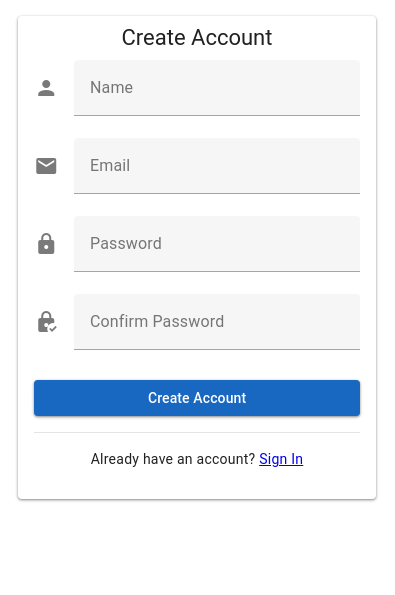
it: RegisterView › shows error message when registration fails
In the field labelled "Name": (217, 88) [74,60,360,116], type "John"
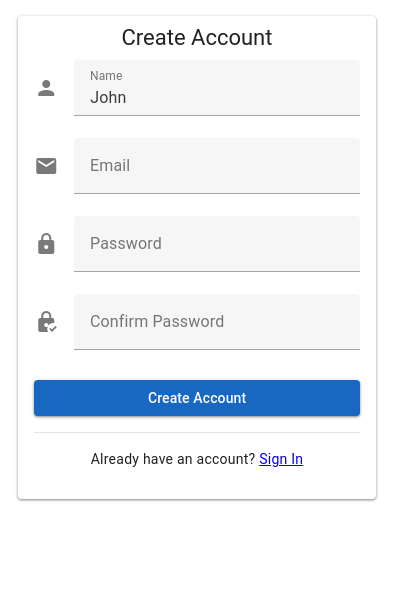
In the field labelled "Email": (217, 166) [74,138,360,194], type "john@example.com"
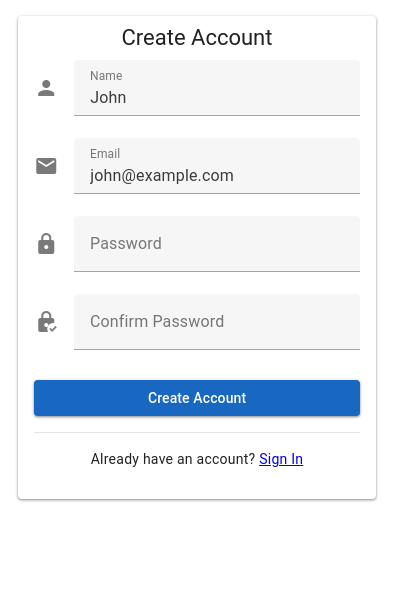
In the password field labelled "Password": (217, 244) [74,216,360,272], type "secret1"
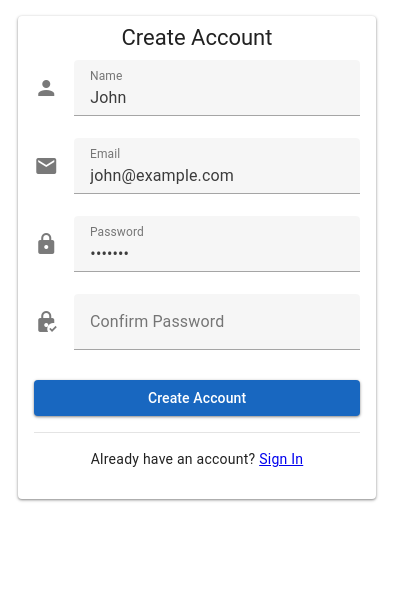
In the password field labelled "Confirm Password": (217, 322) [74,294,360,350], type "secret1"
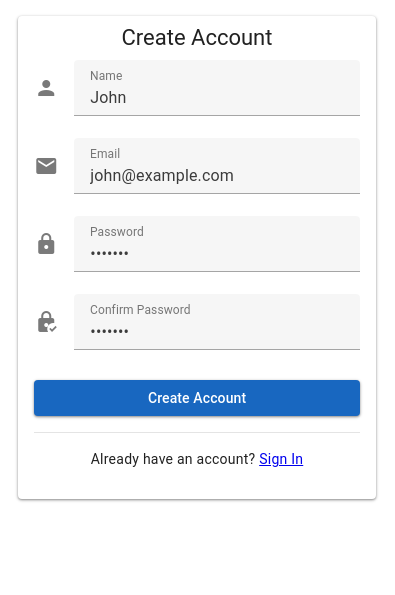
Submit the form, box [34,60,360,416]
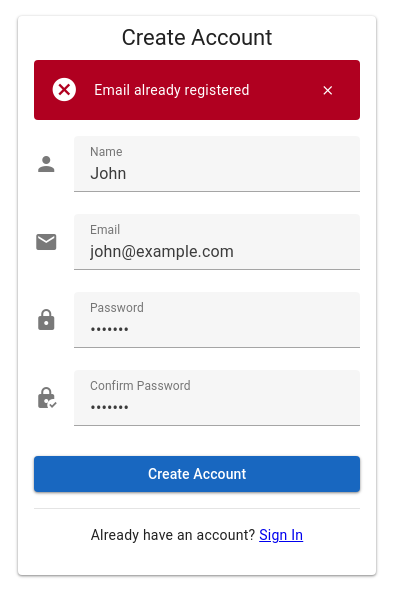
Result: the text "Email already registered" is shown at [94,82,250,98]
